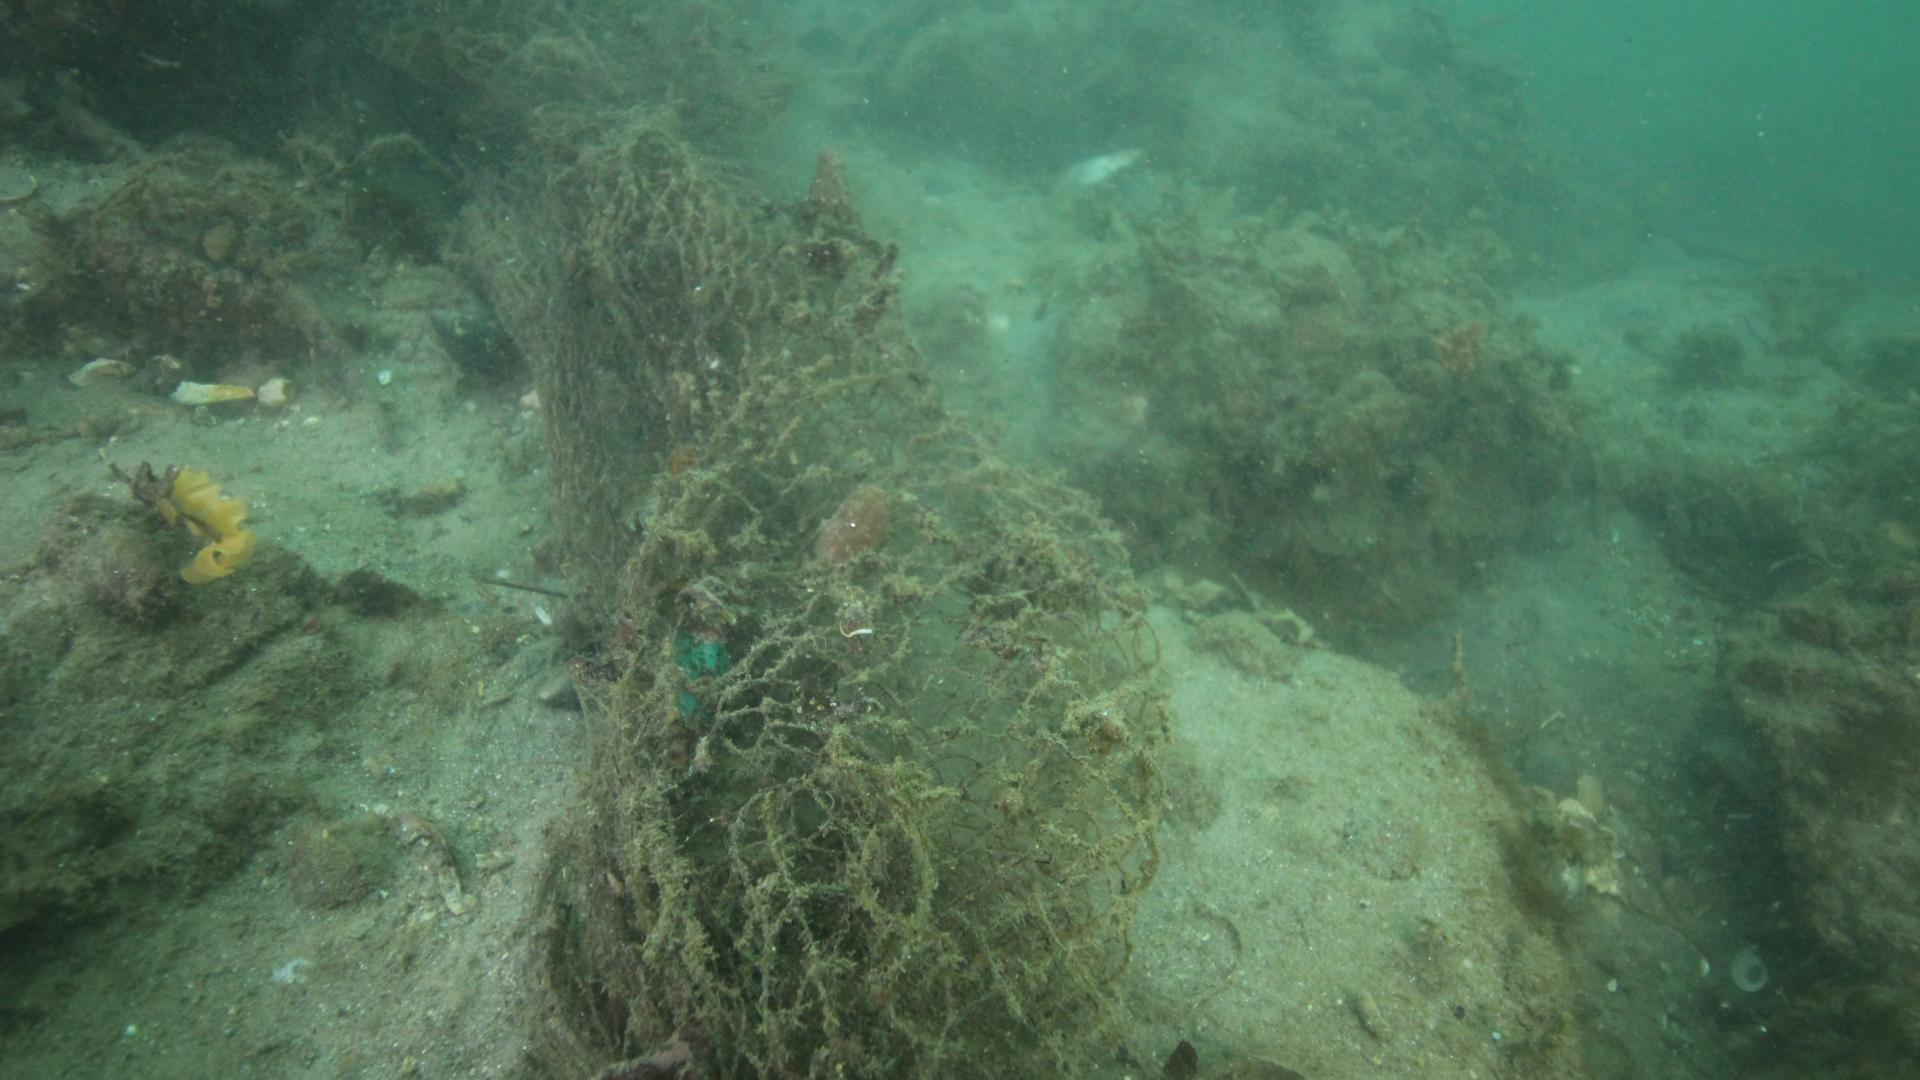fish net: (605, 167, 1167, 1080)
